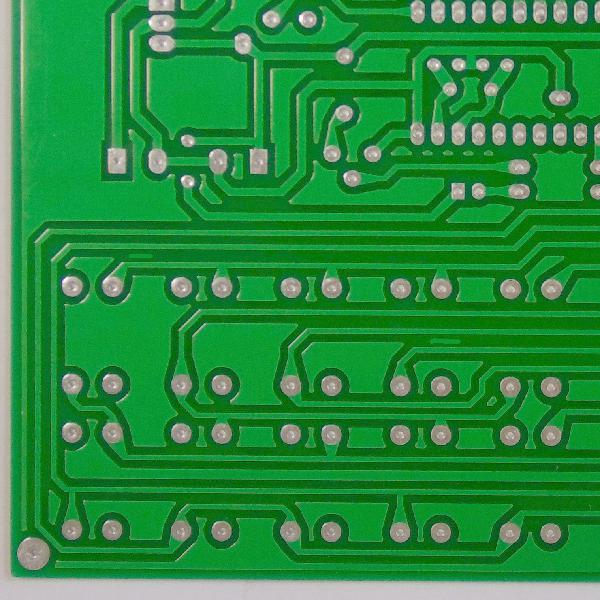spurious_copper: (124, 246, 155, 265), (427, 334, 462, 350)
